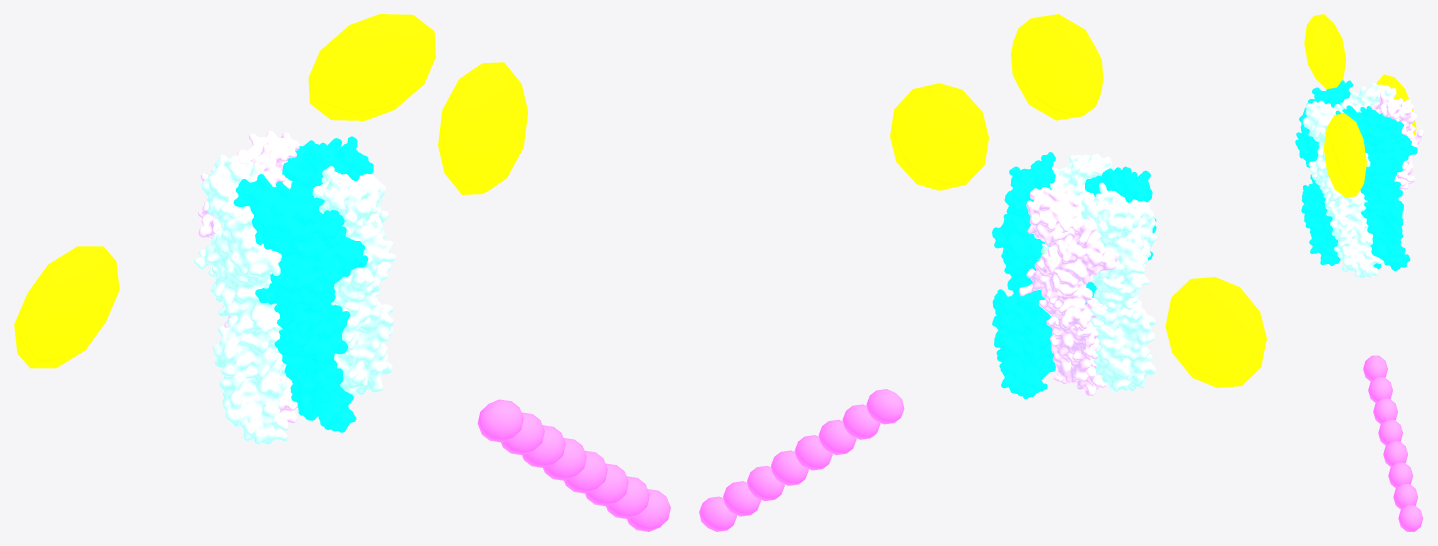
File: heart-micro-progressing-1.glb
3 views of the same model, side by side, from view 1: azimuth 30°, elevation 25°; view 2: azimuth 150°, elevation 25°; view 3: azimuth 270°, elevation 25° (orthographic). The views are drawn at different scales.
Parts seen in each view (by area): view 1: Object_12, Object_6, MisfoldedMonomer_2, Object_8, MisfoldedMonomer_0, MisfoldedMonomer_1, Object_10, Object_4, AmyloidChain_0, AmyloidChain_1, AmyloidChain_2, AmyloidChain_6 (+4 smaller); view 2: Object_10, Object_6, Object_4, MisfoldedMonomer_1, MisfoldedMonomer_0, MisfoldedMonomer_2, Object_12, Object_8, AmyloidChain_0, AmyloidChain_3, AmyloidChain_7, AmyloidChain_1 (+4 smaller); view 3: Object_4, Object_8, Object_12, MisfoldedMonomer_0, MisfoldedMonomer_2, Object_10, Object_6, AmyloidChain_7, AmyloidChain_0, AmyloidChain_5, AmyloidChain_1, AmyloidChain_2 (+4 smaller).
Boxes of the visible parts, x1,y1,x2,y2 form: Object_12: (233,174,368,432); Object_6: (194,154,288,444); MisfoldedMonomer_2: (308,14,435,120); Object_8: (312,166,396,397); MisfoldedMonomer_0: (438,62,527,194); MisfoldedMonomer_1: (14,246,119,368); Object_10: (198,131,299,423); Object_4: (282,136,373,197); AmyloidChain_0: (477,399,523,442); AmyloidChain_1: (501,412,544,455); AmyloidChain_2: (522,425,565,467); AmyloidChain_6: (606,476,649,518); Object_10: (1019,185,1119,395); Object_6: (1081,182,1157,392); Object_4: (992,152,1057,398); MisfoldedMonomer_1: (1165,277,1266,387); MisfoldedMonomer_0: (890,83,988,190); MisfoldedMonomer_2: (1011,14,1103,120); Object_12: (1085,166,1156,304); Object_8: (1050,153,1112,206); AmyloidChain_0: (866,389,904,424); AmyloidChain_3: (794,435,832,470); AmyloidChain_7: (699,496,736,531); AmyloidChain_1: (842,404,880,439); Object_4: (1335,105,1417,270); Object_8: (1302,100,1383,278); Object_12: (1295,80,1353,265); MisfoldedMonomer_0: (1323,113,1366,197); MisfoldedMonomer_2: (1304,14,1345,89); Object_10: (1370,93,1423,189); Object_6: (1340,82,1396,112); AmyloidChain_7: (1398,505,1423,531); AmyloidChain_0: (1363,355,1387,381); AmyloidChain_5: (1388,462,1412,488); AmyloidChain_1: (1368,377,1392,402); AmyloidChain_2: (1373,398,1397,424).
Size of the model in its own units: 4.8 by 4.49 by 1.28.
